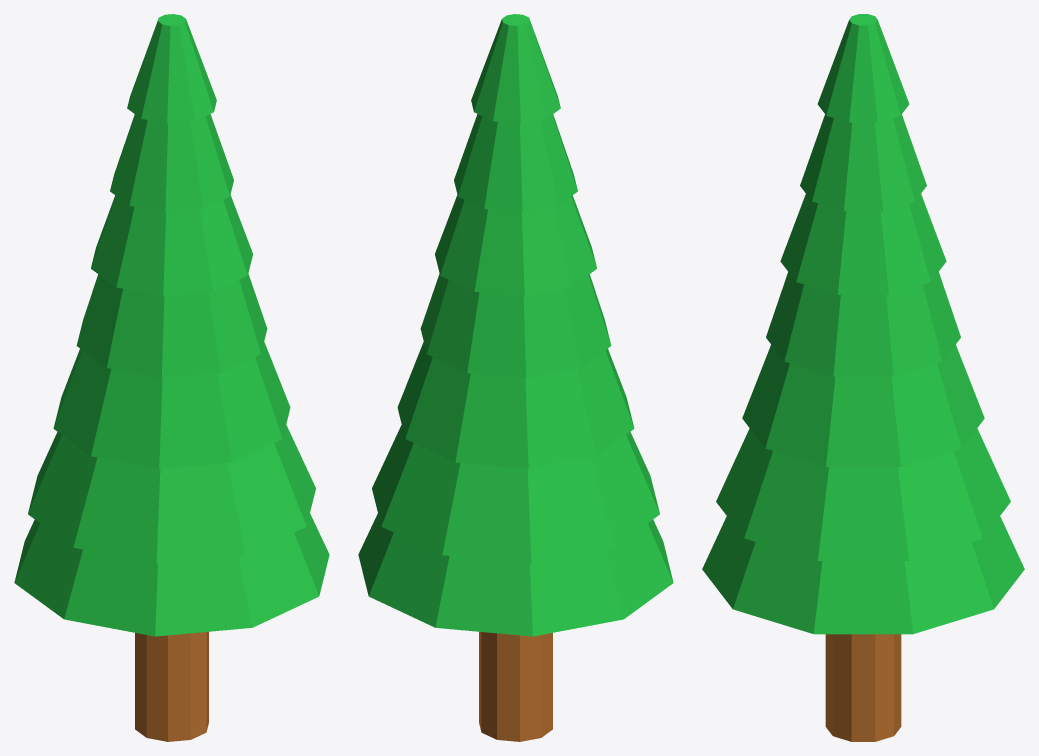
The model's file is Pine Tree 1.fbx.
The picture shows the model from 3 angles, left to right: view 1: azimuth 30°, elevation 25°; view 2: azimuth 150°, elevation 25°; view 3: azimuth 270°, elevation 25°; orthographic projection.
Visible parts, largest first — view 1: Cylinder; view 2: Cylinder; view 3: Cylinder.
Part boxes in pixels (bbox=[...]): Cylinder: bbox=[14, 14, 329, 741]; Cylinder: bbox=[358, 14, 673, 741]; Cylinder: bbox=[702, 14, 1024, 741].
Size of the model in its own units: 2.14 by 5.44 by 2.25.
